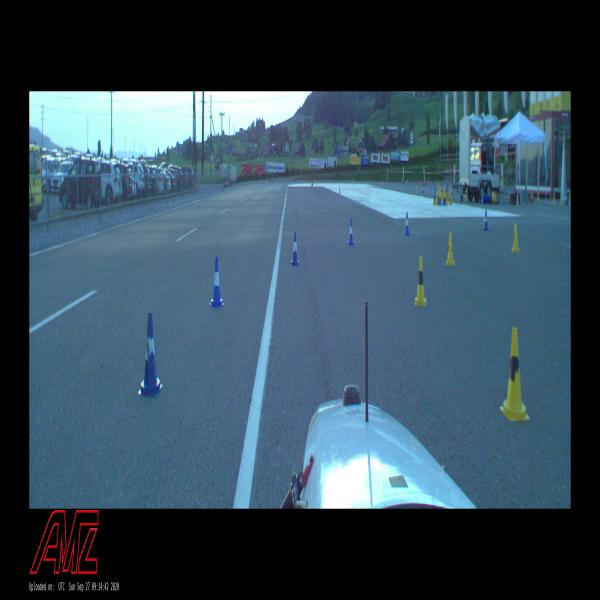blue_cone: (138, 313, 163, 396), (210, 257, 224, 308), (290, 230, 300, 266), (348, 218, 355, 246), (403, 210, 410, 236), (483, 211, 489, 232)
yellow_cone: (500, 328, 530, 423), (416, 257, 426, 303), (446, 232, 456, 267), (512, 222, 520, 253)
